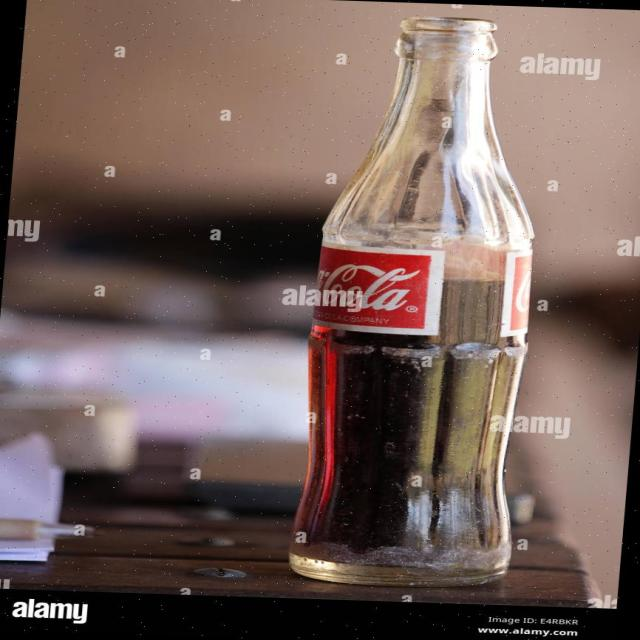coca-cola: (248, 1, 594, 590)
